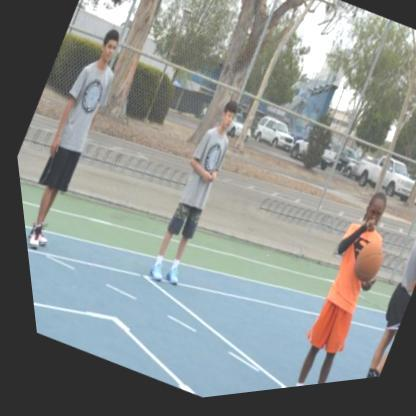basketball: (338, 244, 384, 297)
